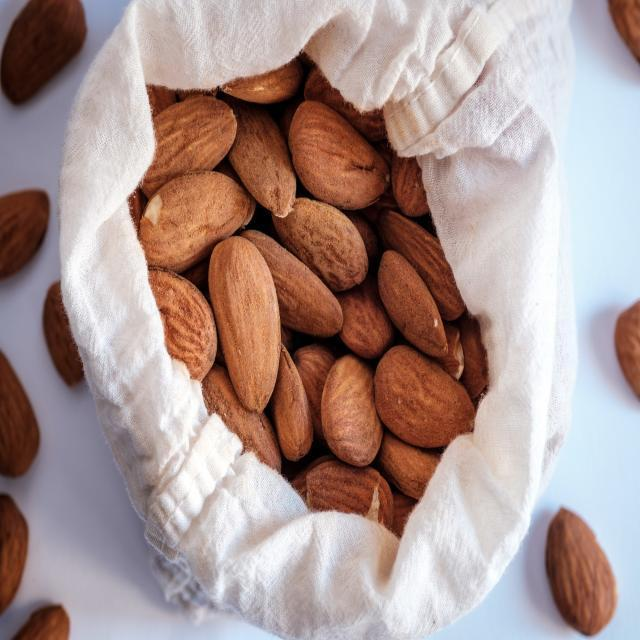almond: (209, 235, 284, 412), (138, 170, 260, 268), (289, 98, 399, 205), (242, 223, 345, 335), (375, 343, 482, 447), (267, 197, 370, 295), (135, 93, 238, 187), (0, 0, 88, 110), (547, 507, 620, 638), (140, 270, 217, 378), (373, 252, 447, 358), (320, 354, 383, 469), (0, 330, 41, 480), (0, 183, 53, 278)
